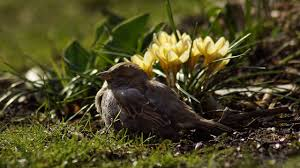hsparrow: (87, 60, 237, 143)
